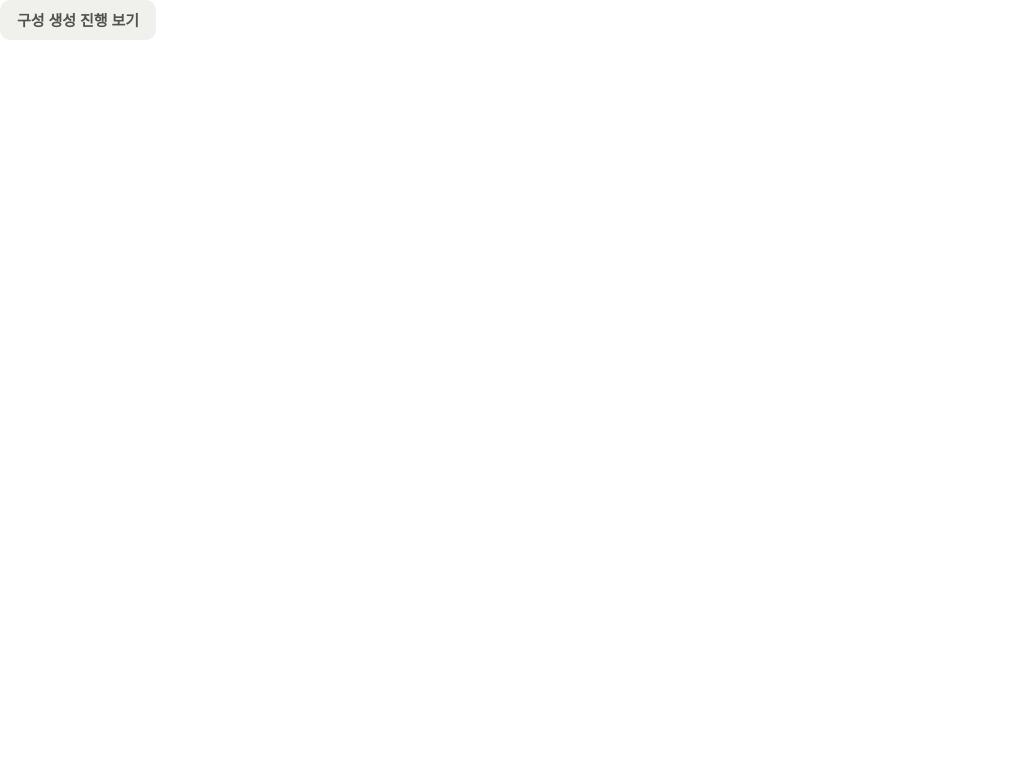
Test: 재진입한 작업을 닫아도 유지하고 명시적 취소만 서버에 보낸다
The width and height of the screenshot is (1024, 768).
Step 1. Click the button "구성 생성 진행 보기" → coordinates (78, 20), box [0,0,156,40]
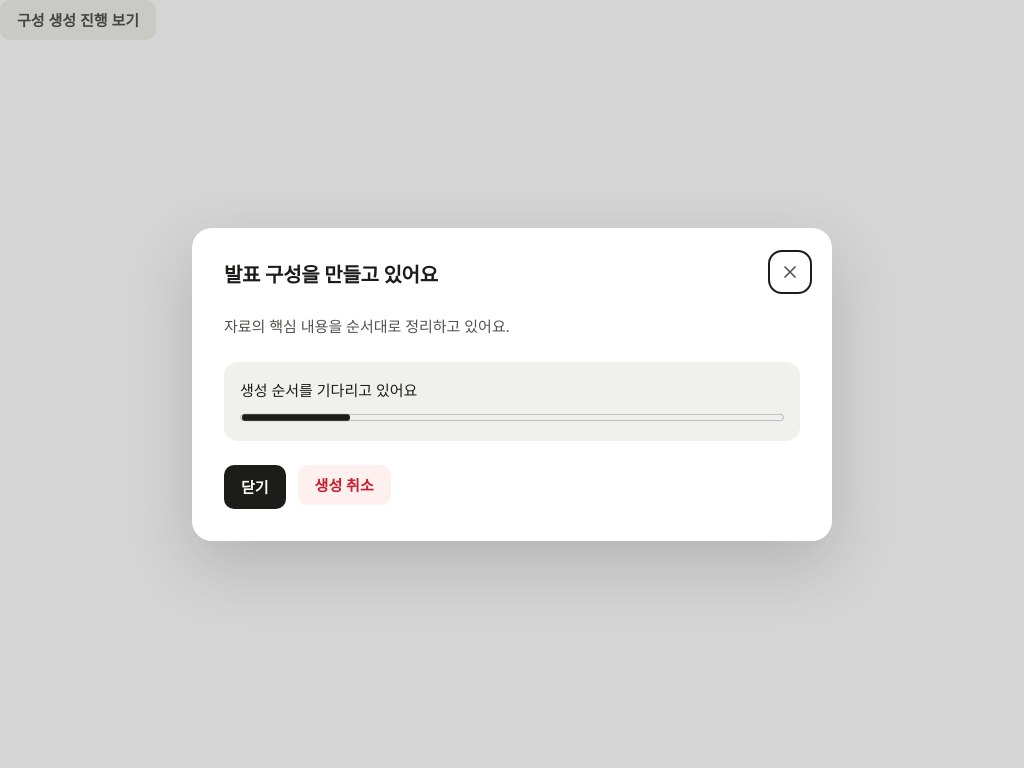
Step 2. Click the button named "닫기" → coordinates (790, 272), box [772,254,808,290]
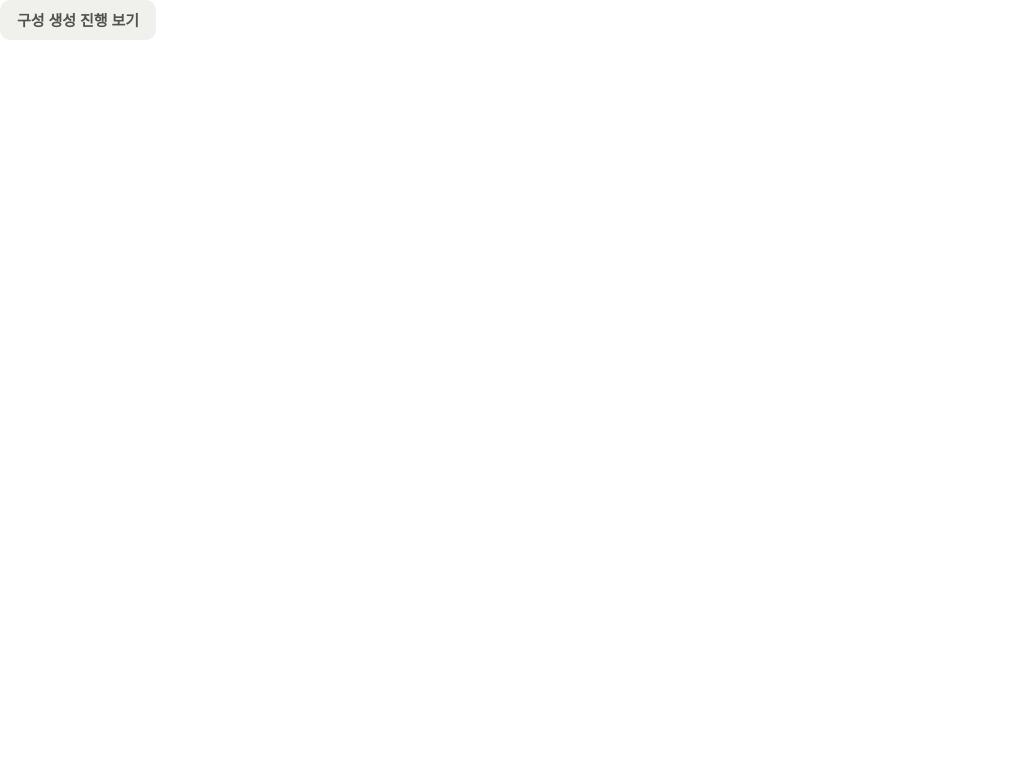
Step 3. Click the button "구성 생성 진행 보기" → coordinates (78, 20), box [0,0,156,40]
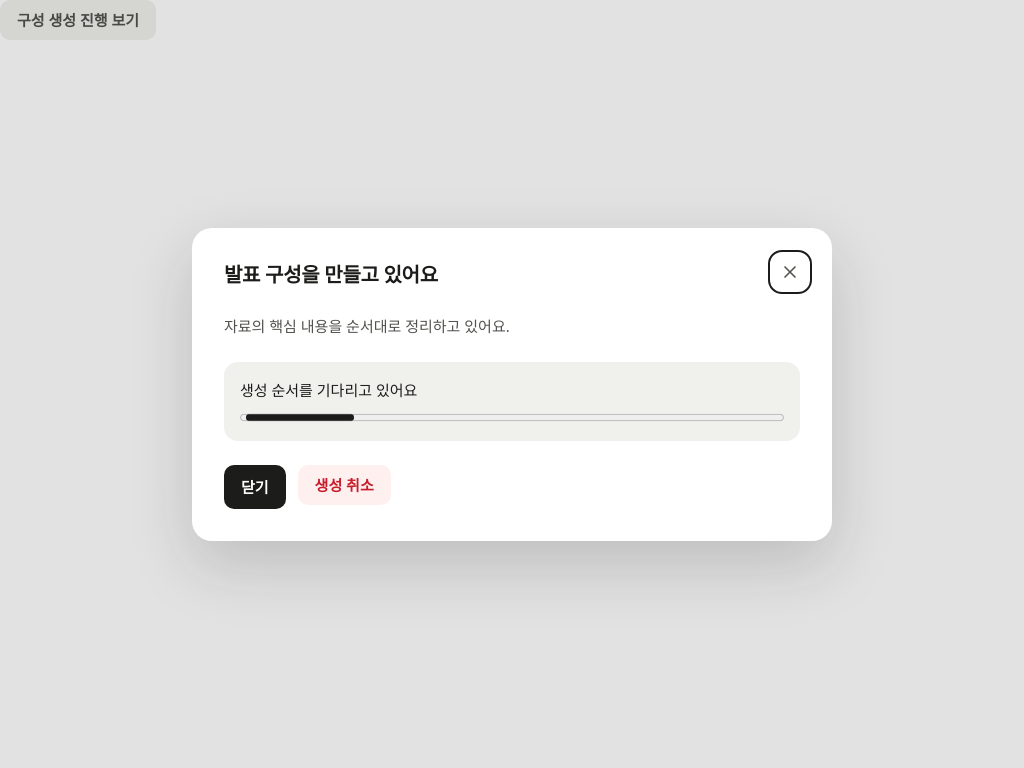
Step 4. Click the button "생성 취소" → coordinates (344, 484), box [298,464,391,504]
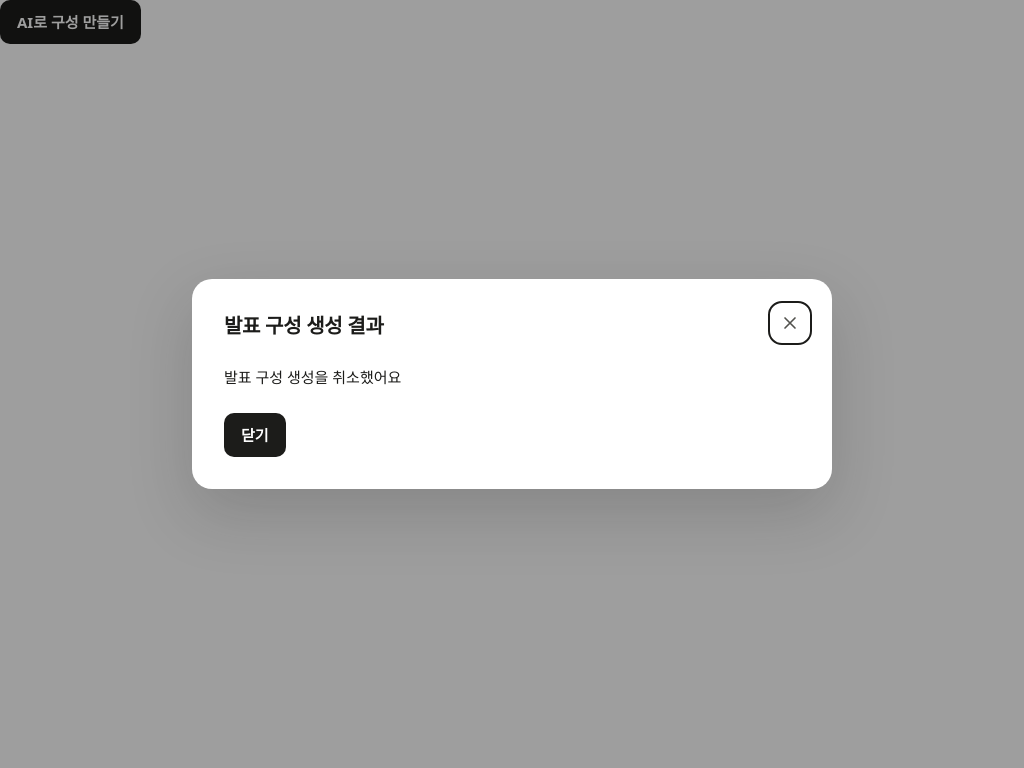
Expected: the text "발표 구성 생성을 취소했어요" is shown, [224,367,401,387]
